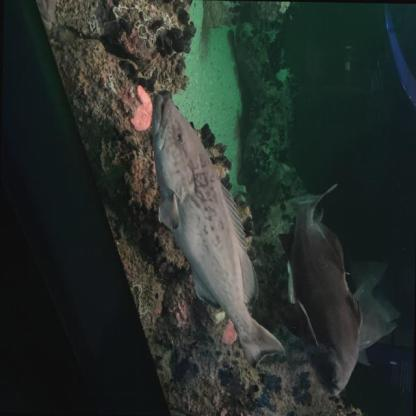fish: (144, 89, 290, 374), (272, 178, 367, 404), (339, 246, 405, 379)
